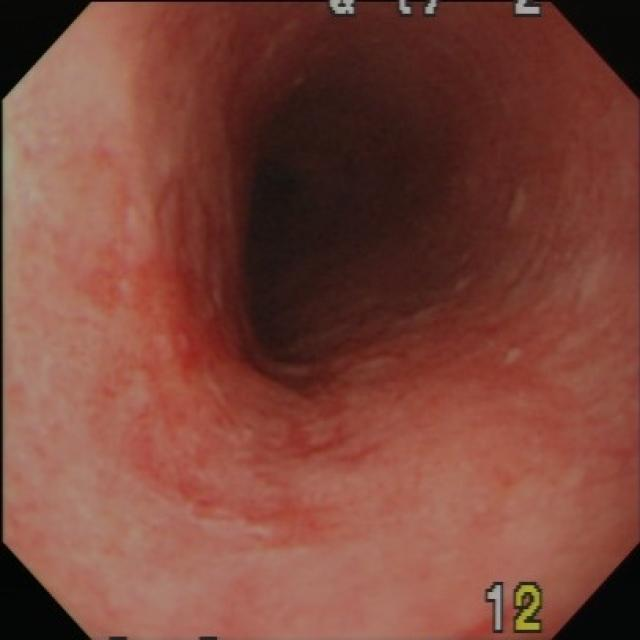A: (89, 248, 361, 549), (404, 316, 552, 393)
C: (284, 398, 353, 460), (168, 318, 235, 374)
E: (242, 75, 449, 373)
J: (550, 239, 611, 307)
S: (485, 581, 547, 636), (325, 3, 545, 18)
